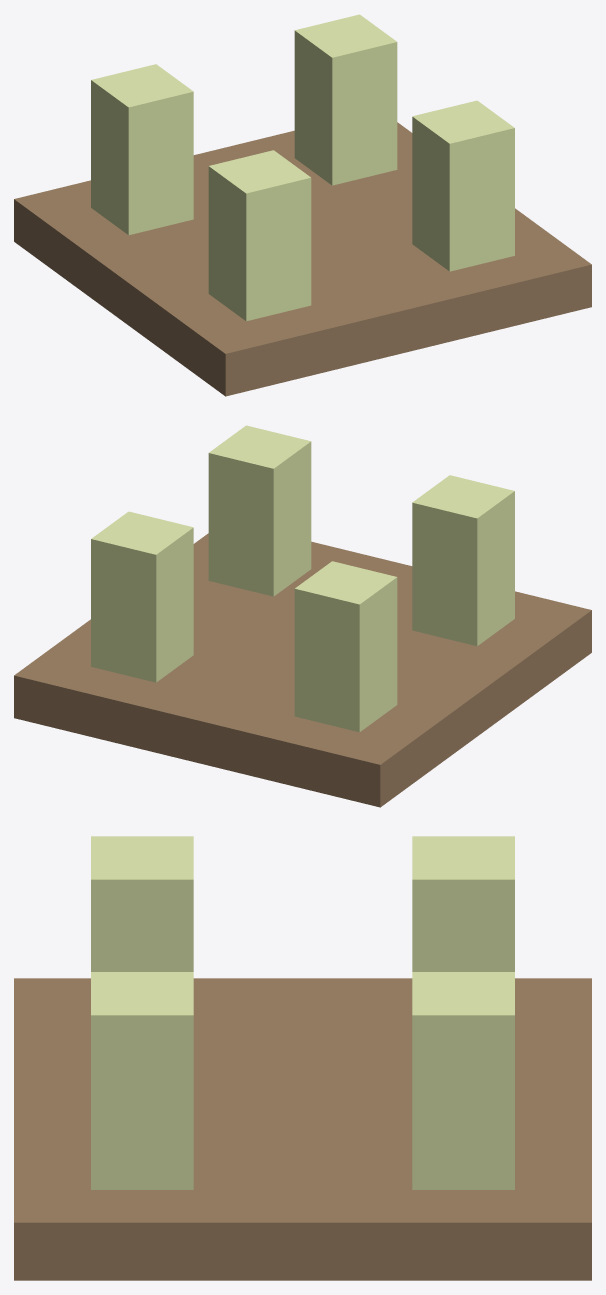
Rendered from Prop_DS_Crop_Groat_S2_V2.glb.
3 views of the same model, one above another, from view 1: azimuth 30°, elevation 25°; view 2: azimuth 150°, elevation 25°; view 3: azimuth 270°, elevation 25° (orthographic). The views are drawn at different scales.
Parts seen in each view (by area): view 1: Prop_DS_Crop_Groat_S2_V2; view 2: Prop_DS_Crop_Groat_S2_V2; view 3: Prop_DS_Crop_Groat_S2_V2.
Boxes of the visible parts, x1,y1,x2,y2 form: Prop_DS_Crop_Groat_S2_V2: [14, 14, 591, 396]; Prop_DS_Crop_Groat_S2_V2: [14, 425, 591, 807]; Prop_DS_Crop_Groat_S2_V2: [14, 836, 591, 1280].
Size of the model in its own units: 0.9 by 0.4 by 0.9.
